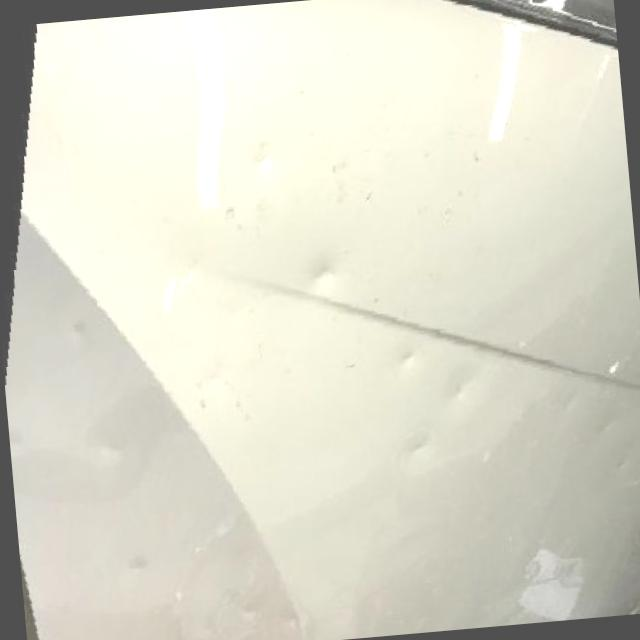dent: (84, 427, 122, 467), (304, 255, 341, 292), (242, 146, 278, 180), (400, 430, 436, 462), (62, 310, 91, 343), (122, 551, 152, 579), (394, 344, 418, 368), (446, 374, 468, 400), (596, 419, 613, 436), (617, 456, 631, 472)
